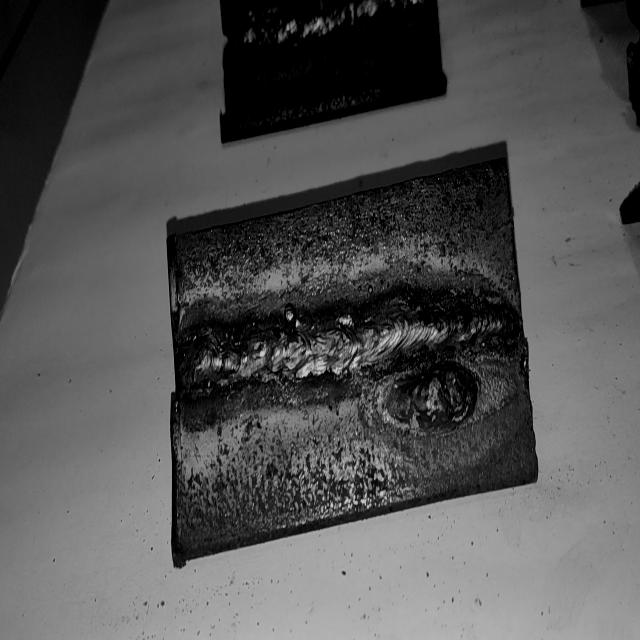Bad Weld: (181, 304, 512, 385)
Defect: (385, 280, 481, 428), (274, 284, 309, 354)
